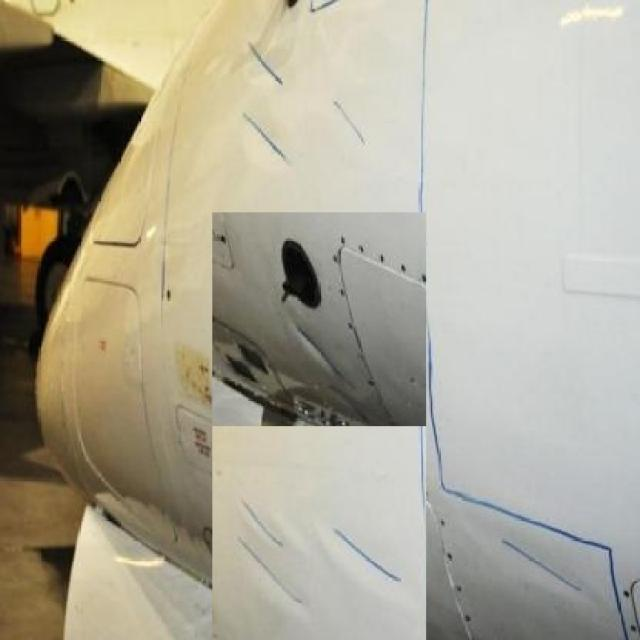dent: (473, 515, 601, 598), (250, 503, 307, 617), (287, 327, 347, 380), (246, 114, 295, 171)
